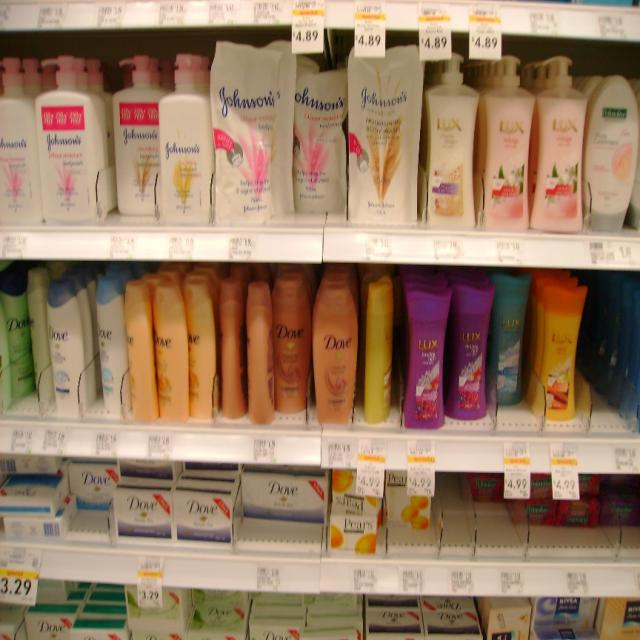q73: (537, 278, 586, 432)
